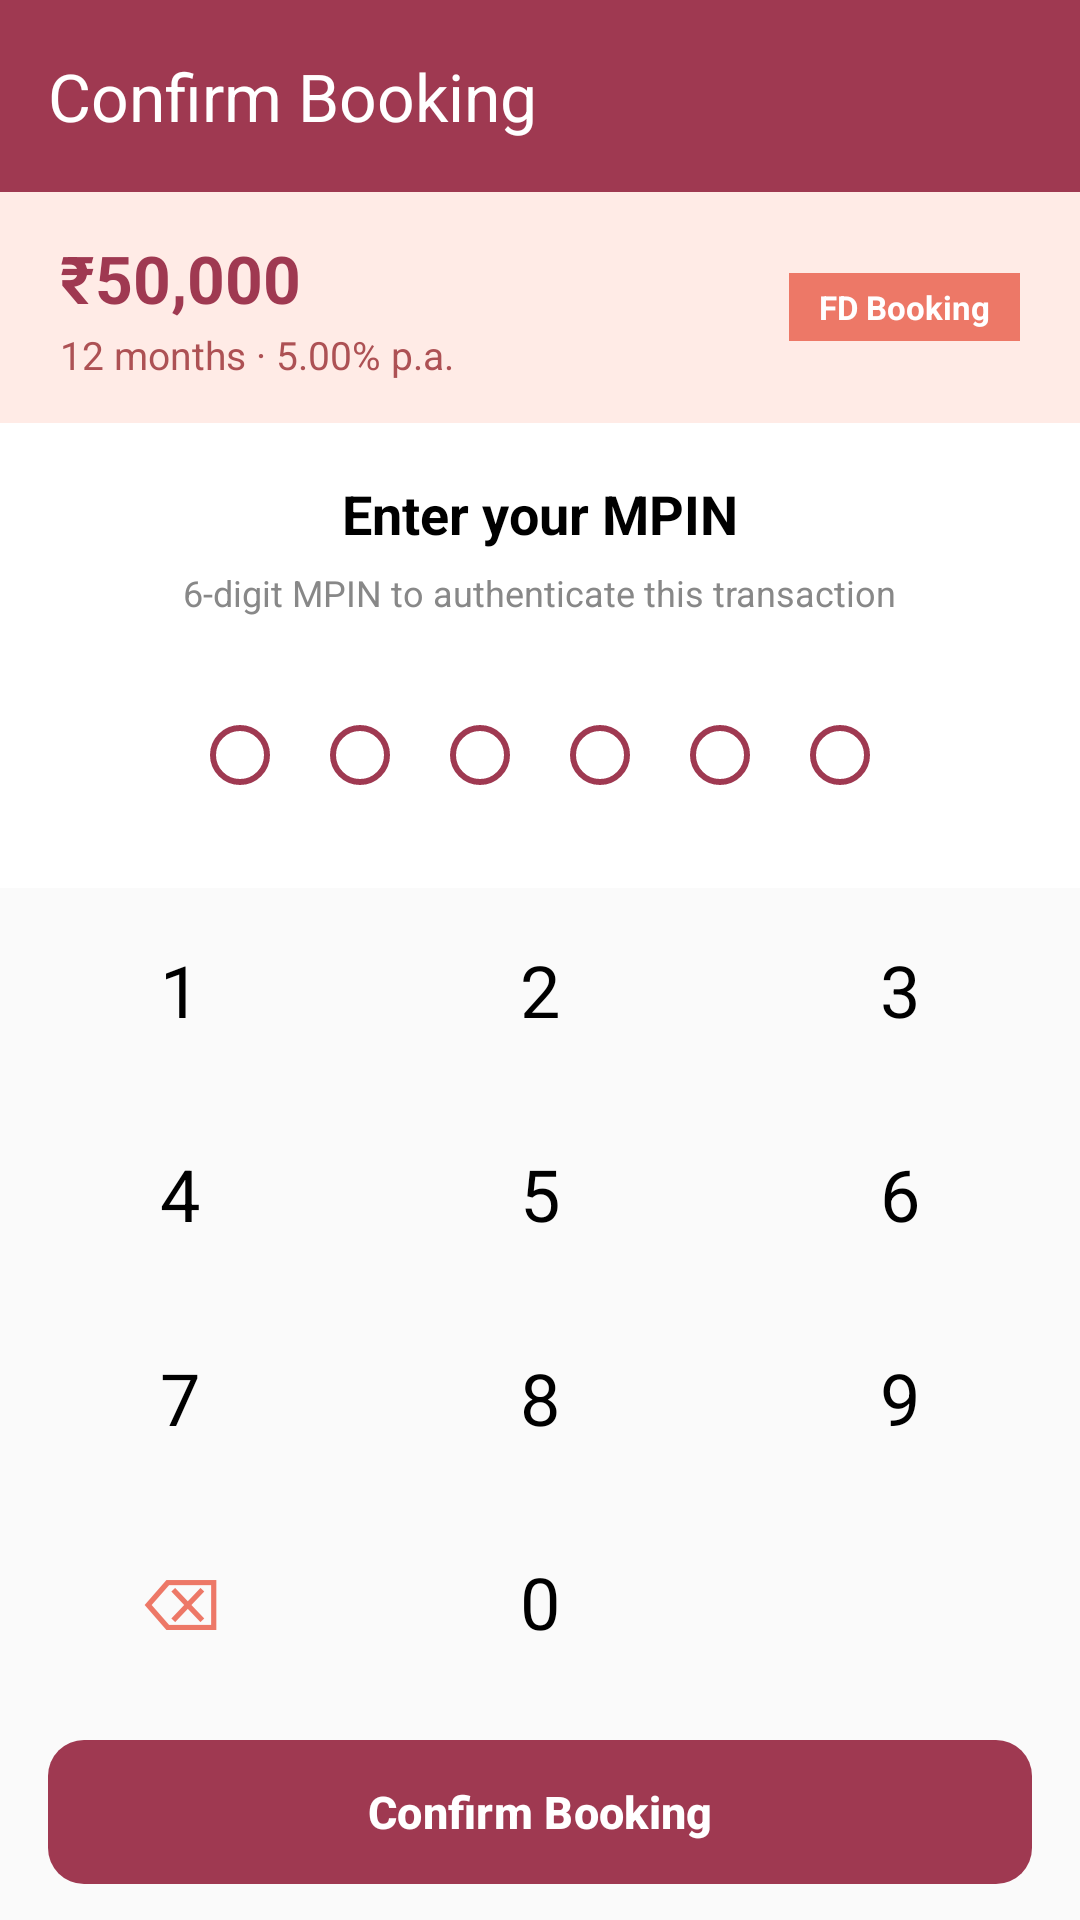

Named icons in this screenshot (1080*1920) and their centers, (x=x, y=y):
pin dot empty: (x=240, y=755), (x=360, y=755), (x=480, y=755), (x=600, y=755), (x=720, y=755), (x=840, y=755)
